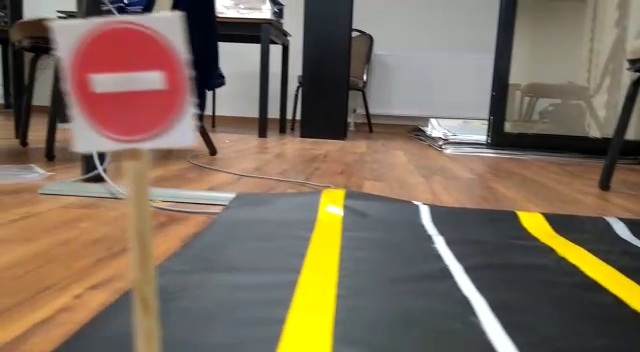girisi_olmayan_yol: (58, 22, 197, 145)
